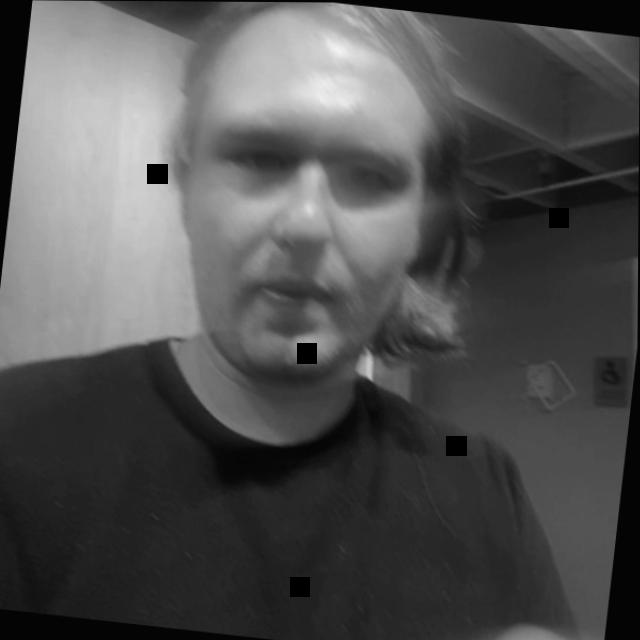NO-Mask: (102, 1, 531, 475)
